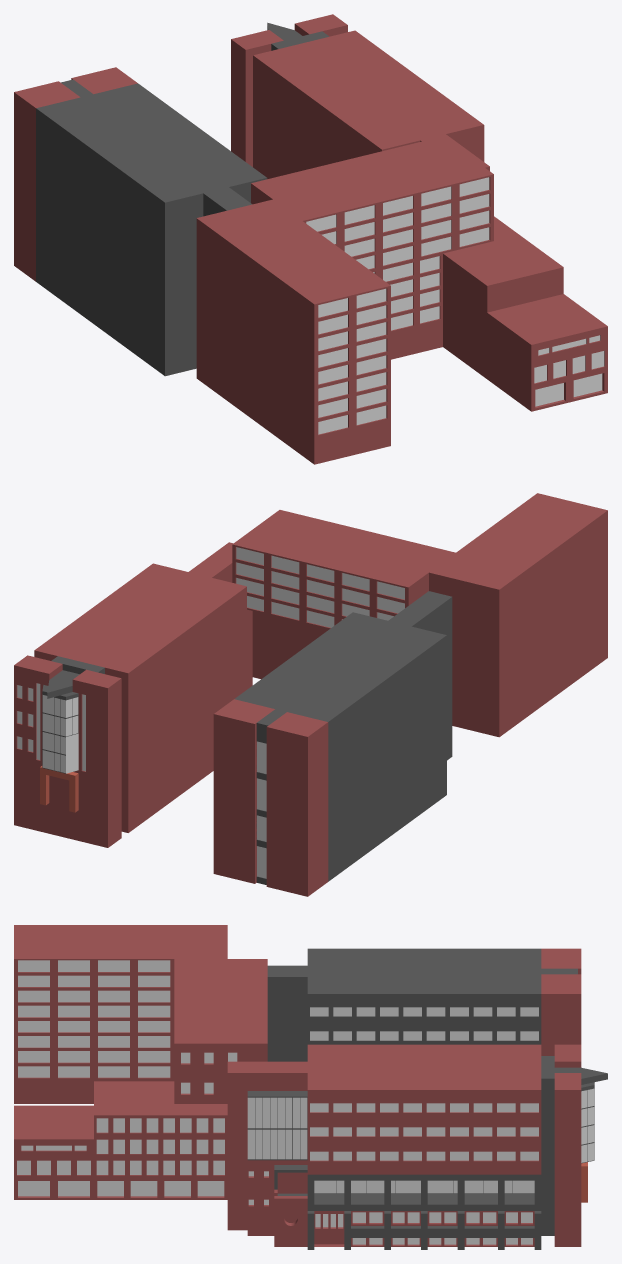
File: gonghakTexture.fbx
3 views of the same model, one above another, from view 1: azimuth 30°, elevation 25°; view 2: azimuth 150°, elevation 25°; view 3: azimuth 270°, elevation 25° (orthographic). The views are drawn at different scales.
Parts seen in each view (by area): view 1: Cube.055, Cube.050, Cube.038, Cube.037, Cube.036, Cube.035, Cube.039, Cube.057, Cube.051, Cube, Cube.034, Cube.053 (+6 smaller); view 2: Cube.055, Cube.050, Cube.037, Cube.038, Cube.041, Cube.057, Cube.056, Cube.051, Cube.034, Cube, Cube.043, Cube.053 (+7 smaller); view 3: Cube.055, Cube, Cube.053, Cube.035, Cube.038, Cube.034, Cube.036, Cube.030, Cube.051, Cube.037, Cube.050, Cube.041 (+19 smaller).
Part boxes in pixels (x1,y1,x2,y2): Cube.055: [196, 199, 390, 464]; Cube.050: [36, 99, 203, 376]; Cube.038: [251, 136, 493, 270]; Cube.037: [253, 46, 420, 178]; Cube.036: [487, 294, 607, 411]; Cube.035: [443, 216, 563, 378]; Cube.039: [371, 253, 442, 359]; Cube.057: [14, 81, 80, 281]; Cube.051: [75, 92, 252, 216]; Cube: [330, 30, 484, 161]; Cube.034: [292, 40, 489, 170]; Cube.053: [113, 83, 267, 202]; Cube.055: [429, 493, 607, 737]; Cube.050: [293, 626, 446, 881]; Cube.037: [93, 578, 246, 832]; Cube.038: [232, 510, 455, 629]; Cube.041: [14, 677, 121, 847]; Cube.057: [266, 712, 328, 896]; Cube.056: [213, 699, 274, 883]; Cube.051: [269, 591, 452, 760]; Cube.034: [70, 542, 252, 689]; Cube: [34, 563, 176, 660]; Cube.043: [42, 685, 78, 773]; Cube.053: [234, 612, 375, 704]; Cube.055: [14, 925, 227, 1103]; Cube: [307, 1078, 541, 1174]; Cube.053: [307, 982, 541, 1044]; Cube.035: [94, 1081, 227, 1199]; Cube.038: [174, 959, 267, 1103]; Cube.034: [227, 1061, 541, 1230]; Cube.036: [14, 1105, 93, 1199]; Cube.030: [247, 1091, 307, 1235]; Cube.051: [267, 965, 541, 1061]; Cube.037: [307, 1044, 541, 1061]; Cube.050: [307, 948, 541, 965]; Cube.041: [554, 1102, 581, 1246].
Size of the model in its own units: 53000 by 29000 by 89000.
